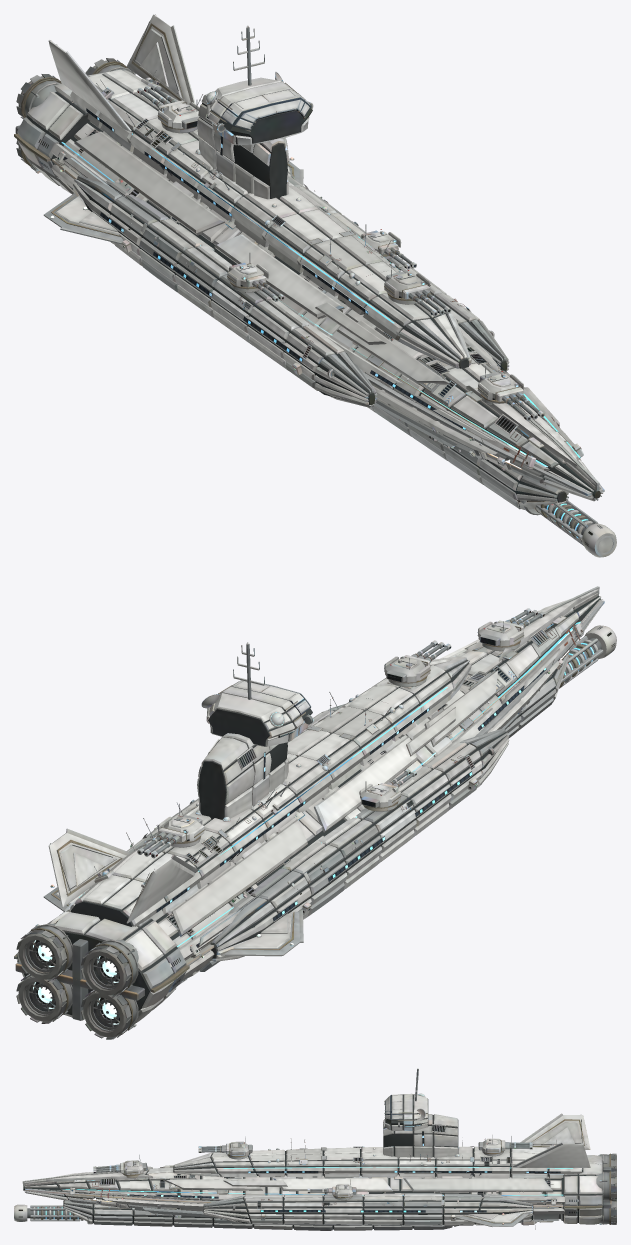
File: warden_destroyer.glb
The picture shows the model from 3 angles, top to bottom: view 1: azimuth 30°, elevation 25°; view 2: azimuth 150°, elevation 25°; view 3: azimuth 270°, elevation 25°; orthographic projection. The views are drawn at different scales.
Parts seen in each view (by area): view 1: warden_destroyer_hull, warden_destroyer_glass; view 2: warden_destroyer_hull, warden_destroyer_plasma; view 3: warden_destroyer_hull, warden_destroyer_glass.
Part boxes in pixels (x1,y1,x2,y2): warden_destroyer_hull: [14, 14, 616, 557]; warden_destroyer_glass: [63, 97, 460, 426]; warden_destroyer_hull: [14, 586, 616, 1039]; warden_destroyer_plasma: [33, 940, 118, 1024]; warden_destroyer_hull: [14, 1068, 616, 1230]; warden_destroyer_glass: [132, 1095, 559, 1211].
Size of the model in its own units: 31.68 by 35.19 by 121.
3 materials, 1 textured.
